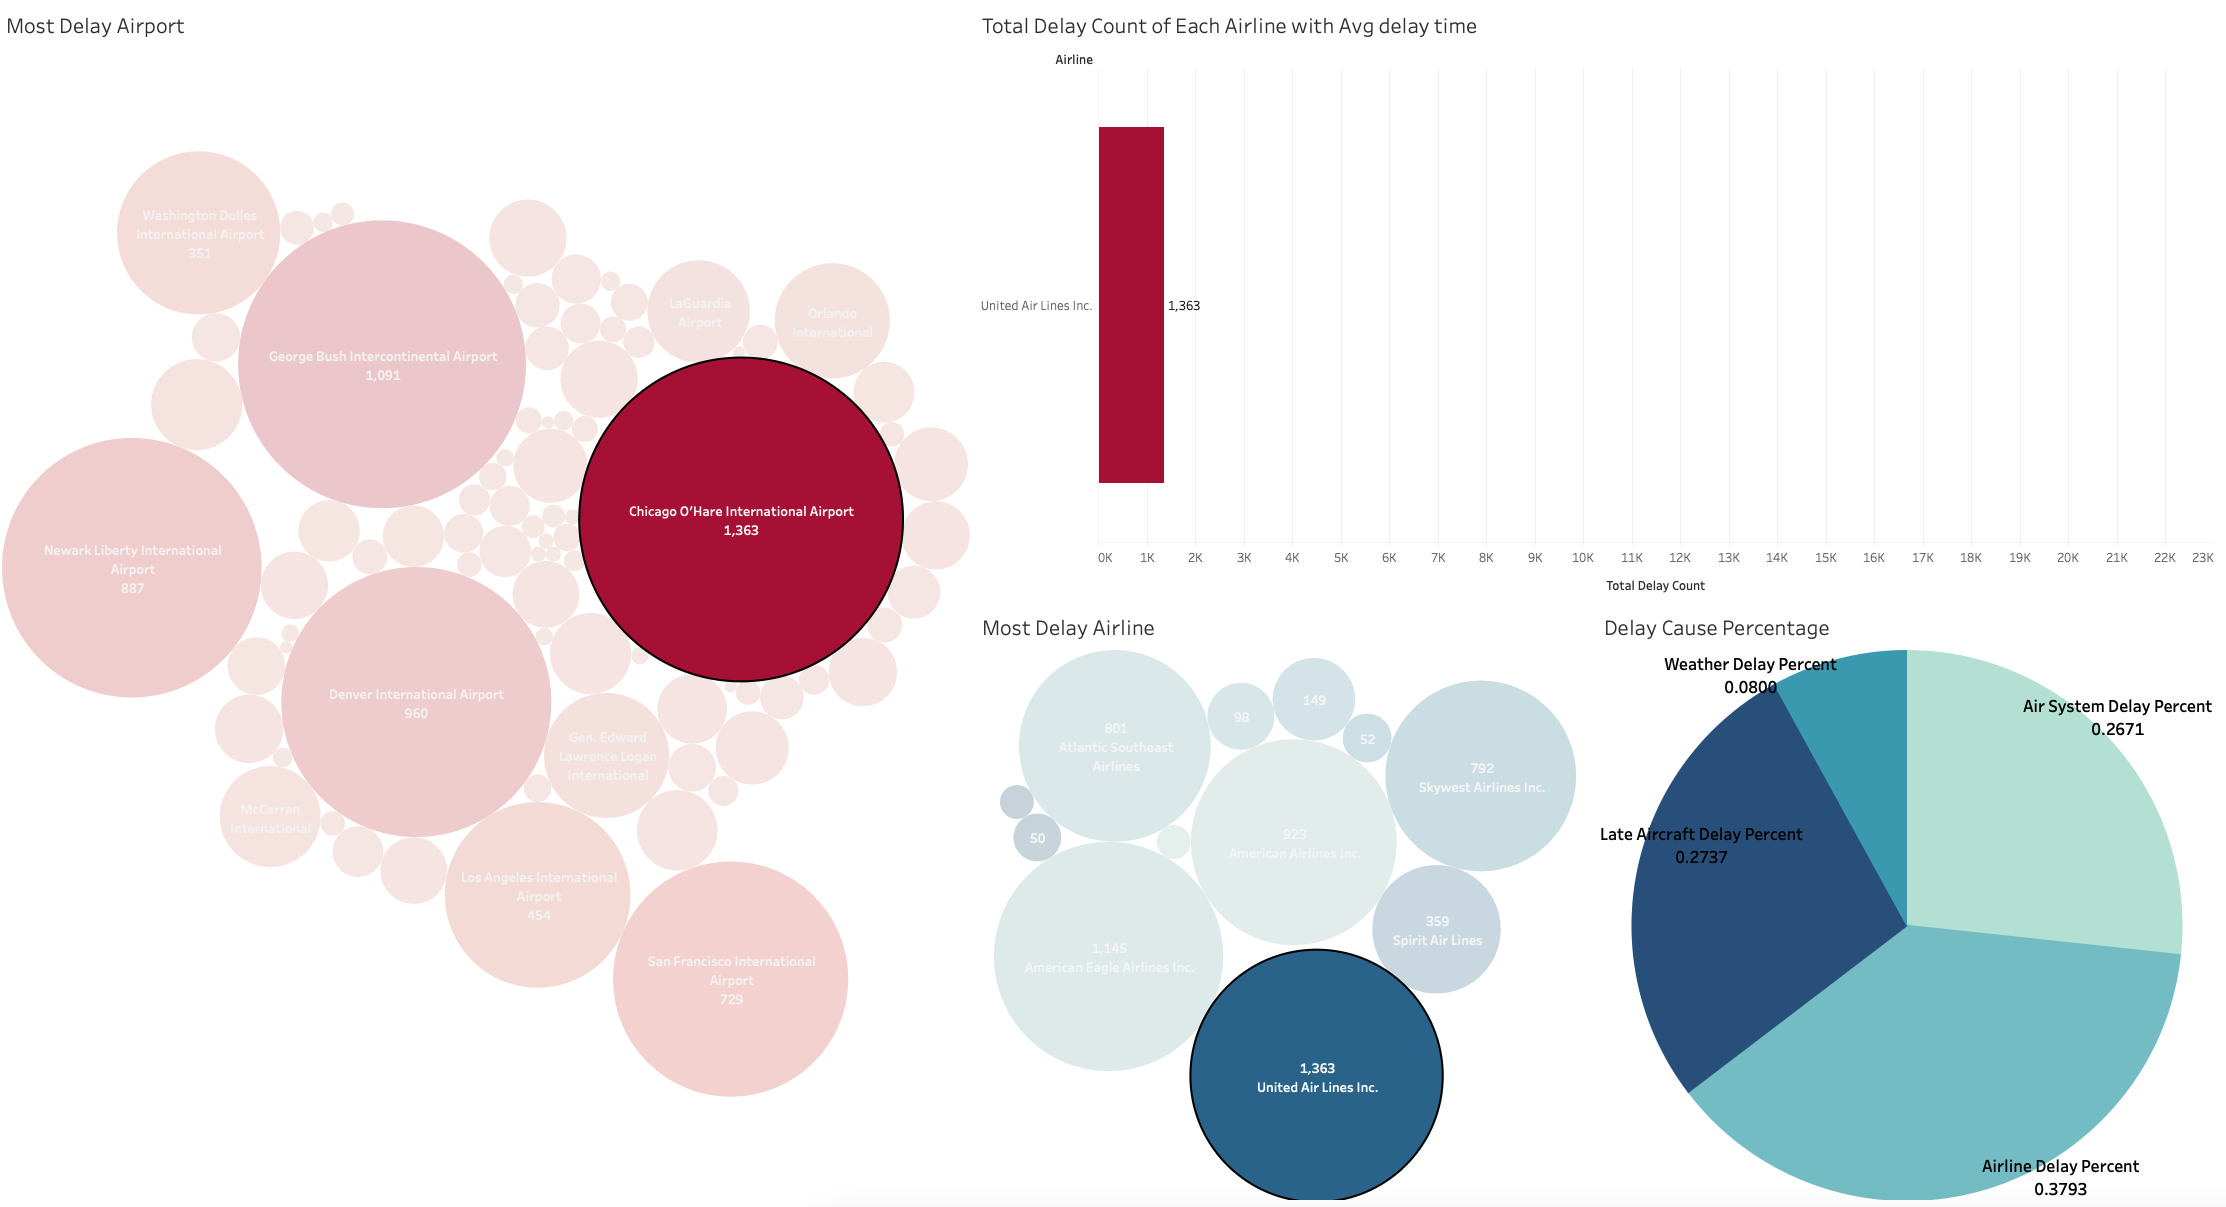

The page's visual inventory and layout, read from the dashboard file:
{"tool":"tableau","page":{"name":"Delay by Airline and Airport with Cause (2)","canvas":[1000,1000],"units":"permille","ordinal":1},"visuals":[{"type":"worksheet","title":"Most Delay Airport","mark":"Circle","box":[3.2,6.6,436.7,986.9]},{"type":"worksheet","title":"Total Delay Count of Each Airline with Avg delay time","mark":"Automatic","rows":["AIRLINE"],"cols":["Calculation_1137721913218289672"],"box":[439.9,6.6,556.9,493.4]},{"type":"worksheet","title":"Most Delay Airline","mark":"Circle","box":[439.9,500,278.4,493.4]},{"type":"worksheet","title":"Delay Cause Percentage","mark":"Pie","box":[718.4,500,278.4,493.4]}]}

Visuals, with their boxes on the dashboard's canvas, which has no fixed pixel size, in thousandths of its width and height (x1, y1, x2, y2). These are canvas units, not pixel positions in the 2226x1207 screenshot, which may show the page scaled, cropped or inside an application window:
"Most Delay Airport" worksheet (Circle marks): detection(3, 7, 440, 994)
"Total Delay Count of Each Airline with Avg delay time" worksheet: detection(440, 7, 997, 500)
"Most Delay Airline" worksheet (Circle marks): detection(440, 500, 718, 993)
"Delay Cause Percentage" worksheet (Pie marks): detection(718, 500, 997, 993)
